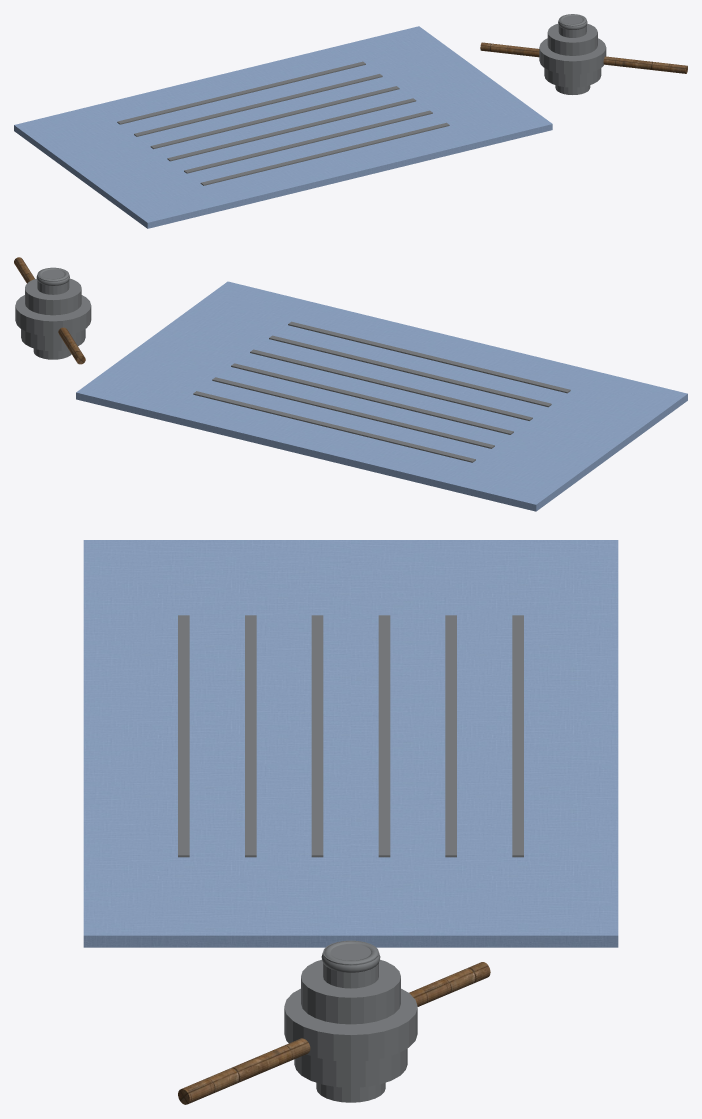
Rendered from tinta.glb.
The picture shows the model from 3 angles, top to bottom: view 1: azimuth 30°, elevation 25°; view 2: azimuth 150°, elevation 25°; view 3: azimuth 270°, elevation 25°; orthographic projection. The views are drawn at different scales.
Visible parts, largest first — view 1: Superfície de escrita, Parede do recipiente.002, Cálamo, Linha simbólica sem texto.003, Linha simbólica sem texto.002, Linha simbólica sem texto, Linha simbólica sem texto.001, Linha simbólica sem texto.004, Linha simbólica sem texto.005, Parede do recipiente.003, Parede do recipiente.001, Parede do recipiente.004; view 2: Superfície de escrita, Parede do recipiente.002, Parede do recipiente.003, Linha simbólica sem texto.005, Linha simbólica sem texto, Linha simbólica sem texto.002, Linha simbólica sem texto.004, Linha simbólica sem texto.001, Linha simbólica sem texto.003, Parede do recipiente.001, Cálamo, Parede do recipiente.004; view 3: Superfície de escrita, Parede do recipiente.002, Parede do recipiente.003, Cálamo, Linha simbólica sem texto.002, Linha simbólica sem texto.003, Linha simbólica sem texto, Linha simbólica sem texto.001, Linha simbólica sem texto.004, Linha simbólica sem texto.005, Parede do recipiente.001, Parede do recipiente.004 (+2 smaller).
Part boxes in pixels (x1,y1,x2,y2): Superfície de escrita: (14,26,552,228); Parede do recipiente.002: (539,38,606,74); Cálamo: (480,42,687,73); Linha simbólica sem texto.003: (167,98,416,161); Linha simbólica sem texto.002: (150,86,399,149); Linha simbólica sem texto: (117,61,365,124); Linha simbólica sem texto.001: (134,74,382,136); Linha simbólica sem texto.004: (184,110,432,173); Linha simbólica sem texto.005: (200,122,449,185); Parede do recipiente.003: (547,23,597,55); Parede do recipiente.001: (544,68,601,87); Parede do recipiente.004: (558,14,586,37); Superfície de escrita: (76,281,687,511); Parede do recipiente.002: (15,295,91,336); Parede do recipiente.003: (25,278,81,315); Linha simbólica sem texto.005: (288,321,570,393); Linha simbólica sem texto: (193,391,475,462); Linha simbólica sem texto.002: (231,363,513,434); Linha simbólica sem texto.004: (269,335,551,407); Linha simbólica sem texto.001: (212,377,494,448); Linha simbólica sem texto.003: (250,349,532,420); Parede do recipiente.001: (21,329,85,351); Cálamo: (14,257,85,364); Parede do recipiente.004: (37,267,69,294); Superfície de escrita: (83,540,618,947); Parede do recipiente.002: (284,988,417,1061); Parede do recipiente.003: (301,959,400,1024); Cálamo: (178,962,490,1104); Linha simbólica sem texto.002: (378,615,390,857); Linha simbólica sem texto.003: (311,615,323,857); Linha simbólica sem texto: (512,615,523,857); Linha simbólica sem texto.001: (445,615,456,857); Linha simbólica sem texto.004: (245,615,256,857); Linha simbólica sem texto.005: (178,615,189,857); Parede do recipiente.001: (294,1048,407,1087); Parede do recipiente.004: (323,940,378,988).
Size of the model in its own units: 3.92 by 0.4518 by 1.6.
3 materials, 2 textured.
